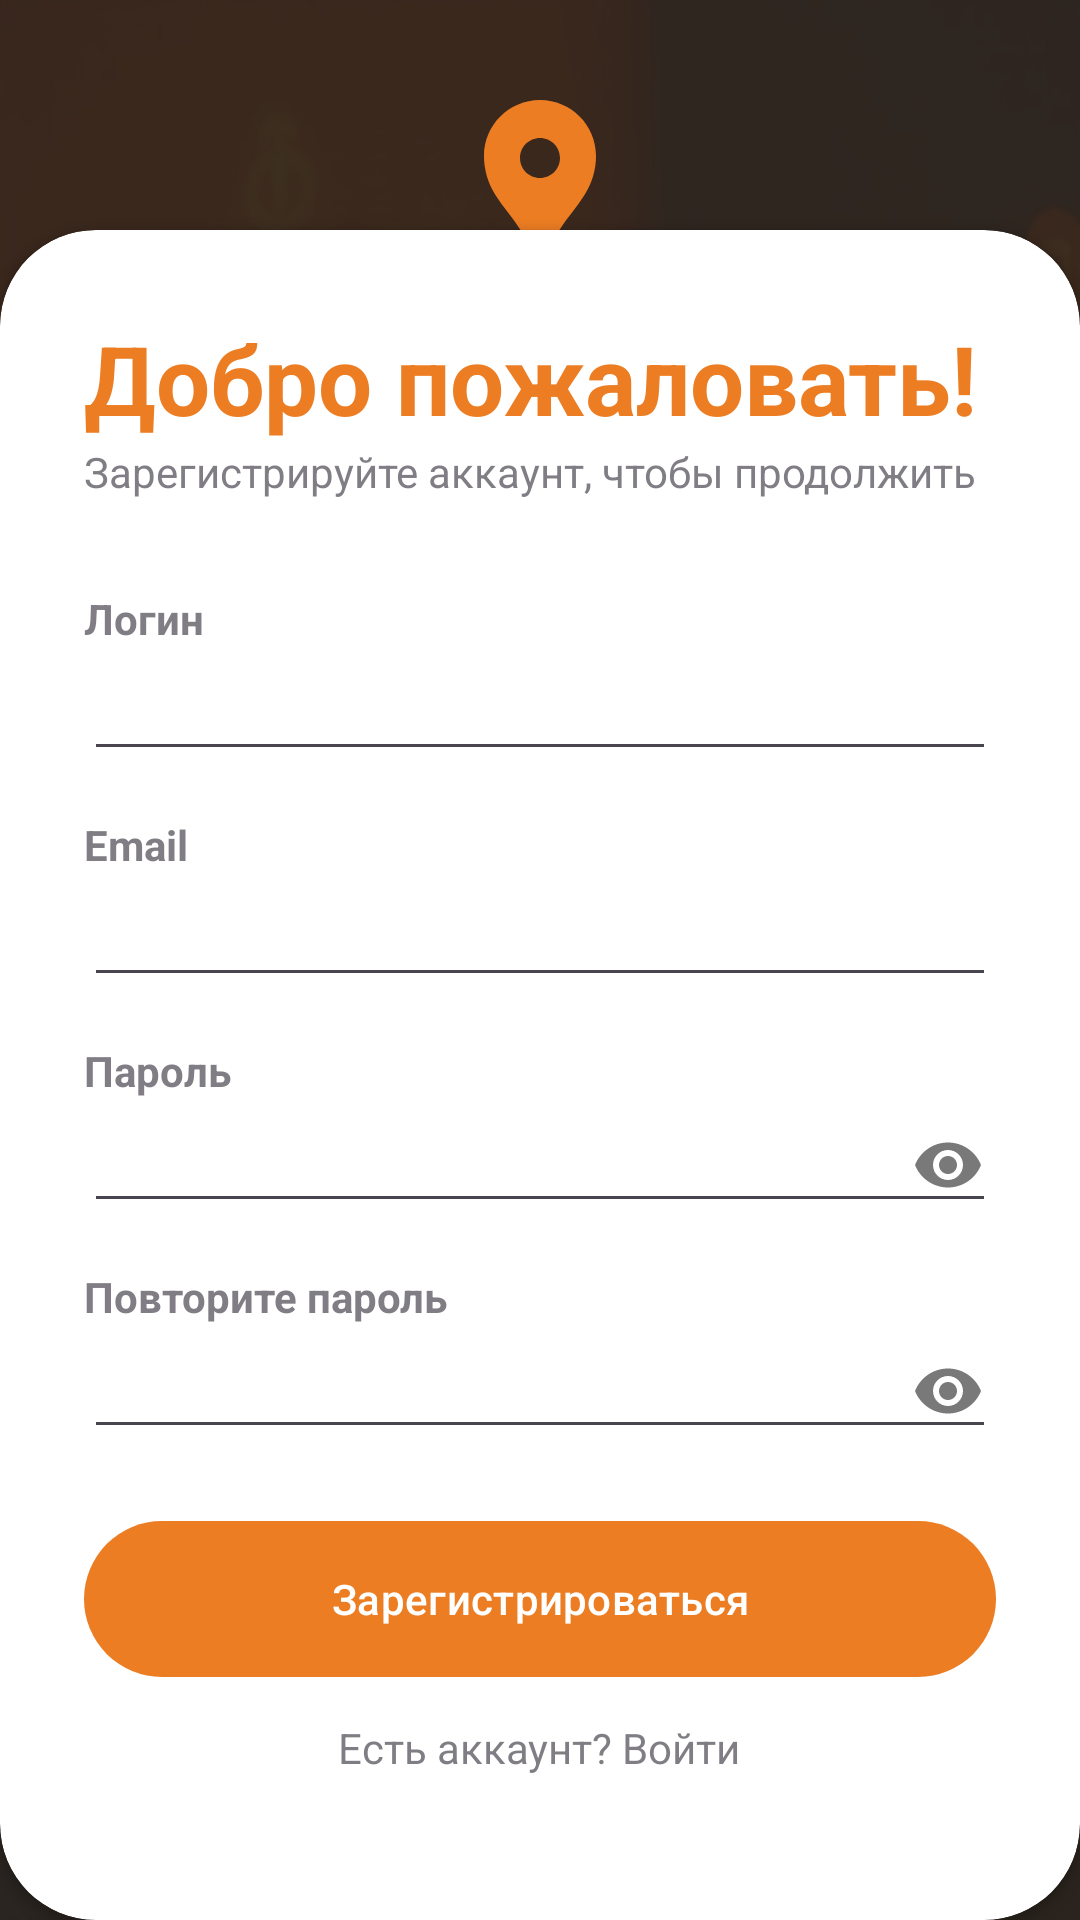

Icons on this 1080 × 1920 Android screen, each with the point to tap as point (x, y):
location: point (540, 180)
